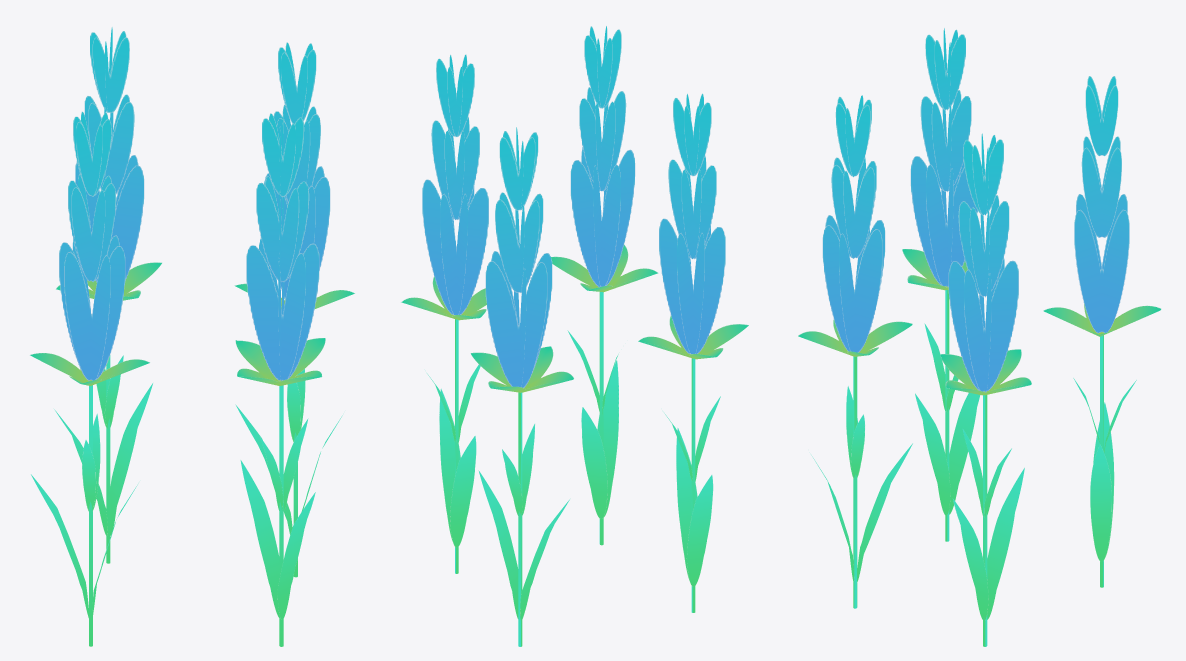
The model's file is Flowers_n03_20.fbx.
3 views of the same model, side by side, from view 1: azimuth 30°, elevation 25°; view 2: azimuth 150°, elevation 25°; view 3: azimuth 270°, elevation 25° (orthographic). The views are drawn at different scales.
Parts seen in each view (by area): view 1: polySurface613; view 2: polySurface613; view 3: polySurface613.
Boxes of the visible parts, bbox=[...] form: polySurface613: bbox=[30, 27, 354, 646]; polySurface613: bbox=[401, 26, 748, 646]; polySurface613: bbox=[798, 28, 1161, 646].
Bounding box in the file's own units: 74.44 × 116 × 78.74.
Materials: 1 (1 with a texture image).
